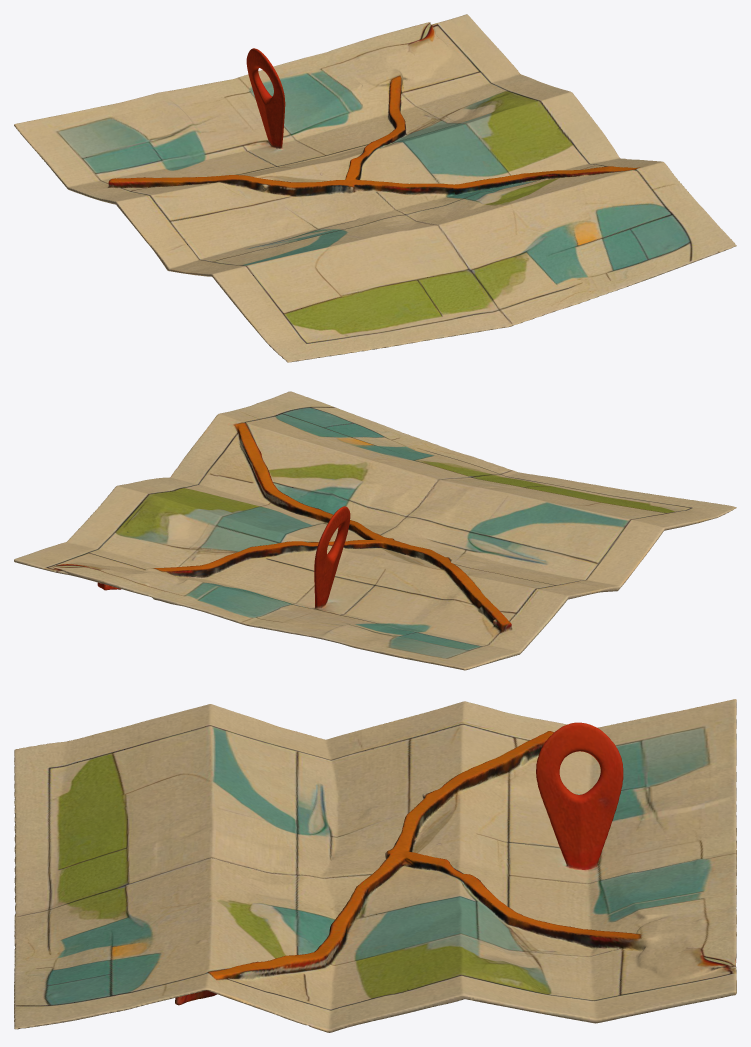
Rendered from Mapa_Pineska_Duza.glb.
3 renders of one model, top to bottom at view 1: azimuth 30°, elevation 25°; view 2: azimuth 150°, elevation 25°; view 3: azimuth 270°, elevation 25°, orthographic. The views are drawn at different scales.
Parts seen in each view (by area): view 1: tripo_node_8c2dcf7b; view 2: tripo_node_8c2dcf7b; view 3: tripo_node_8c2dcf7b.
Boxes of the visible parts, x1,y1,x2,y2 form: tripo_node_8c2dcf7b: [14, 14, 736, 362]; tripo_node_8c2dcf7b: [14, 391, 736, 670]; tripo_node_8c2dcf7b: [14, 699, 736, 1032].
Size of the model in its own units: 0.9604 by 0.2605 by 1.
1 material, 1 textured.
